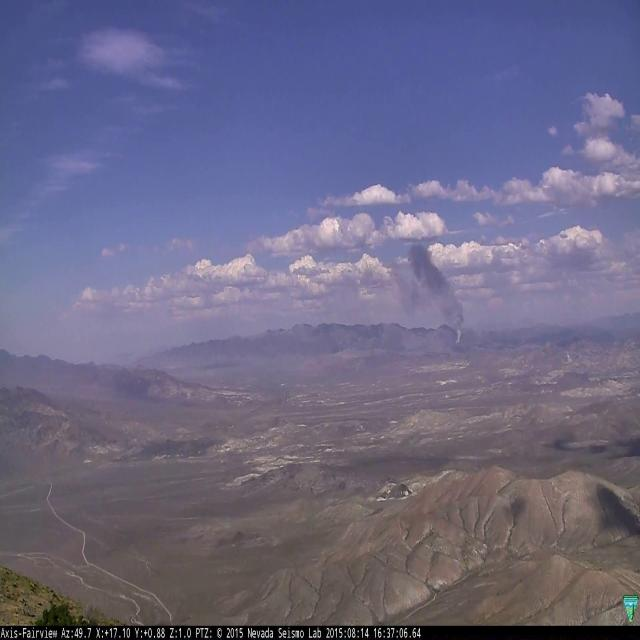smoke: (390, 242, 464, 344)
